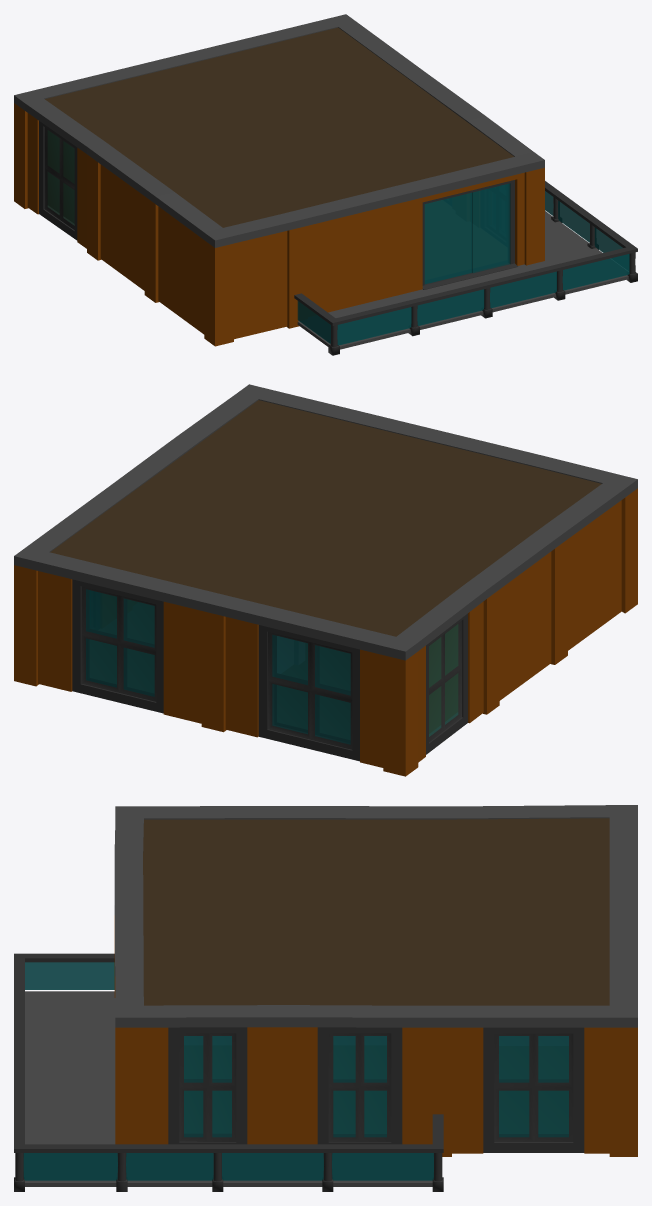
3 views of the same model, one above another, from view 1: azimuth 30°, elevation 25°; view 2: azimuth 150°, elevation 25°; view 3: azimuth 270°, elevation 25° (orthographic). The views are drawn at different scales.
Visible parts, largest first — view 1: Building, Ceiling, Door; view 2: Building, Ceiling; view 3: Building, Ceiling.
Boxes of the visible parts, x1,y1,x2,y2 form: Building: (14,14,637,355); Ceiling: (45,27,513,227); Door: (424,192,472,284); Building: (14,384,637,776); Ceiling: (50,400,601,636); Building: (14,805,637,1191); Ceiling: (143,818,609,1005).
Bounding box in the file's own units: 26.56 × 7.09 × 28.33.
